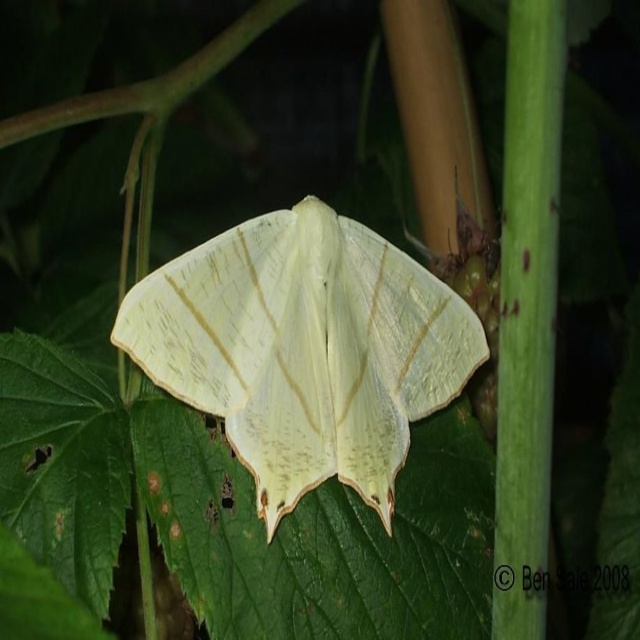Butterfly: (137, 164, 493, 525)
